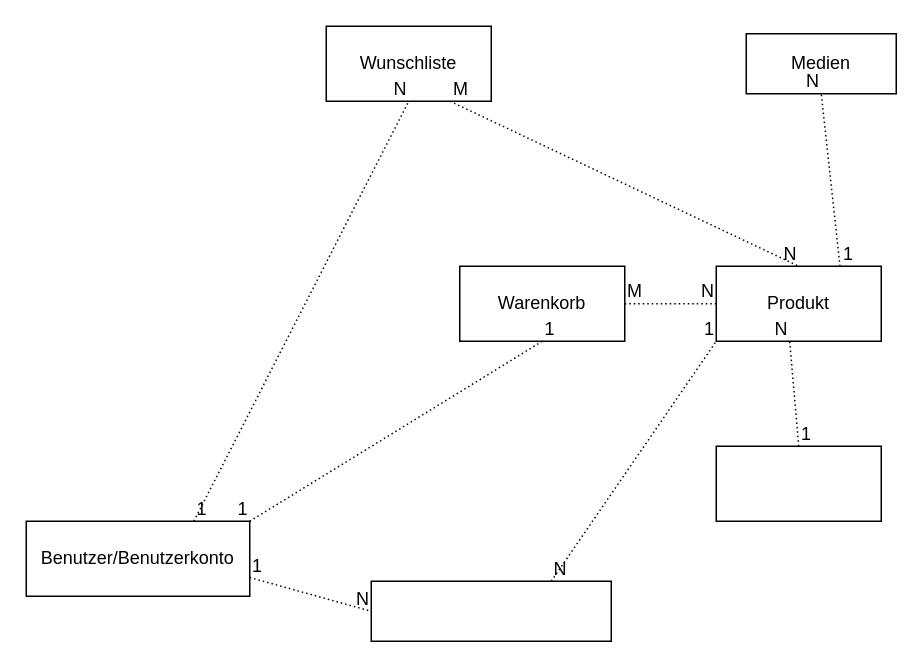
The diagram is 923 pixels wide and 668 high, and some of its shapes have lost their labels. The box of each missing label's shape, as (x1, y1, x2, y2) in pixels:
Kategorien: (715, 445, 881, 521)
Kommentare/Bewertungen: (370, 580, 611, 641)
